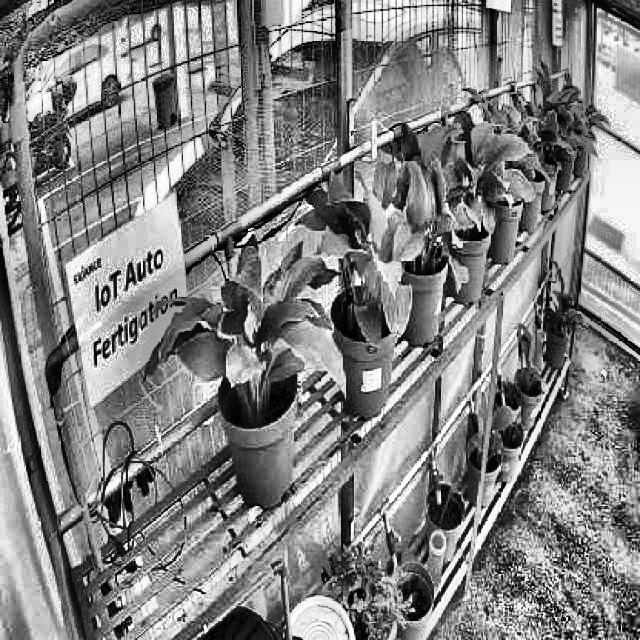plants: (143, 236, 349, 413), (302, 173, 411, 350), (373, 120, 473, 294), (427, 100, 536, 228)
